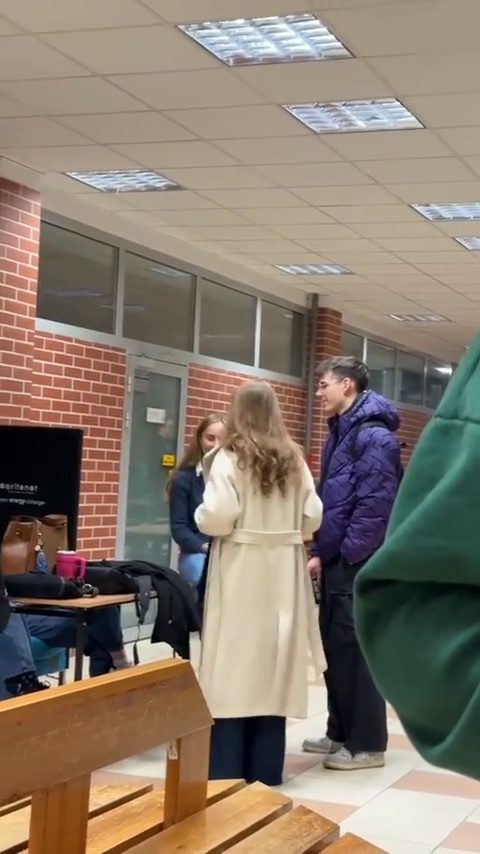no vest: (307, 358, 415, 728), (206, 380, 313, 727)
